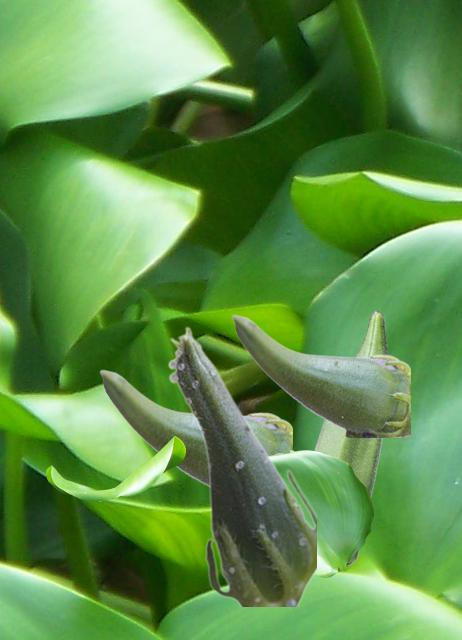okra: (167, 326, 315, 605), (99, 369, 291, 486), (231, 314, 409, 436), (314, 310, 388, 564)
